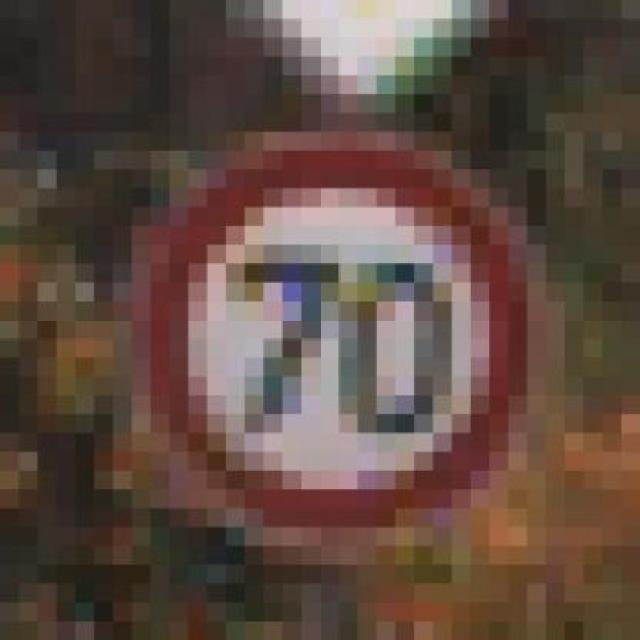forb_speed_over_70: (151, 145, 518, 527)
